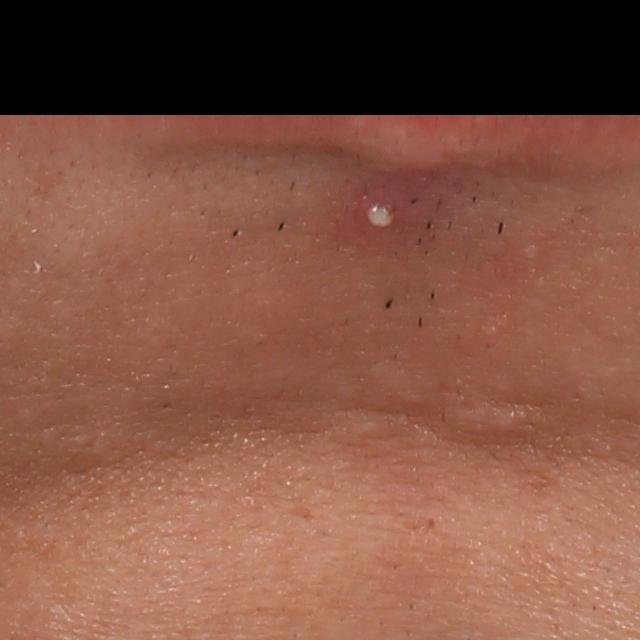hypertrophic_scar: (436, 390, 548, 437)
pustule: (354, 188, 407, 242)
